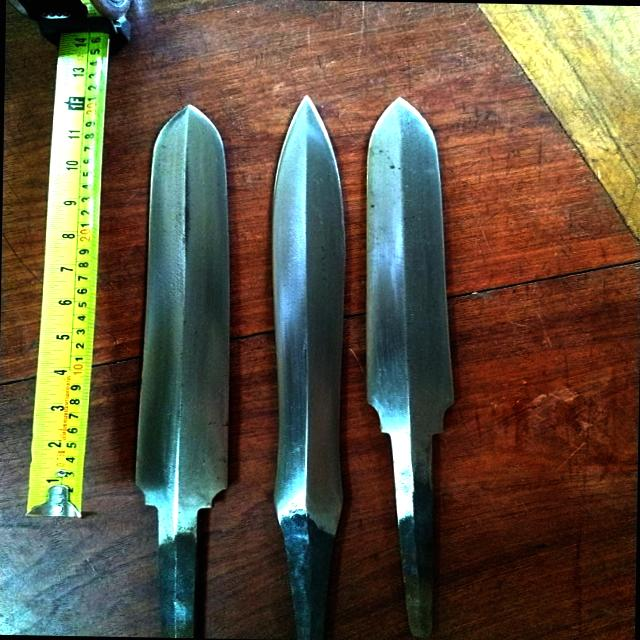short sword: (355, 78, 497, 640), (114, 92, 256, 638), (255, 85, 362, 640)
